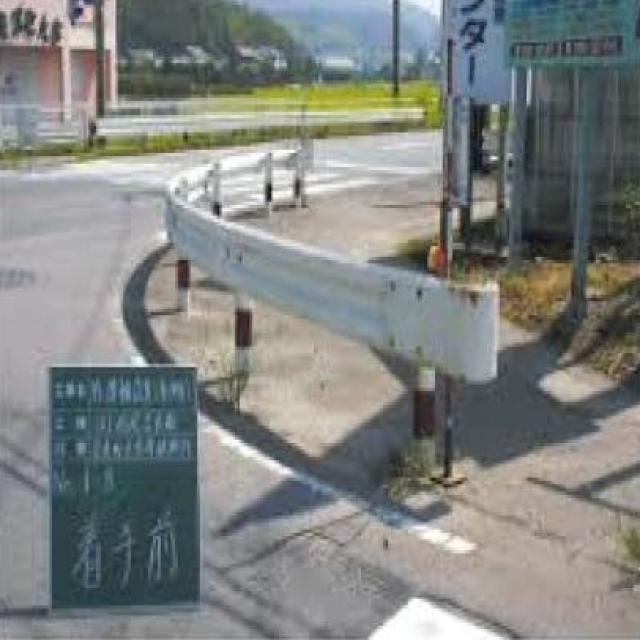Guard rail: (161, 139, 501, 482)
